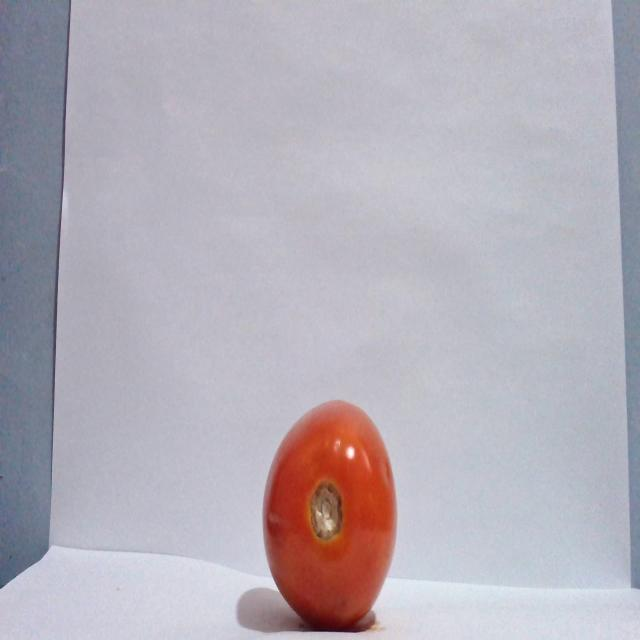Red: (260, 398, 398, 630)
